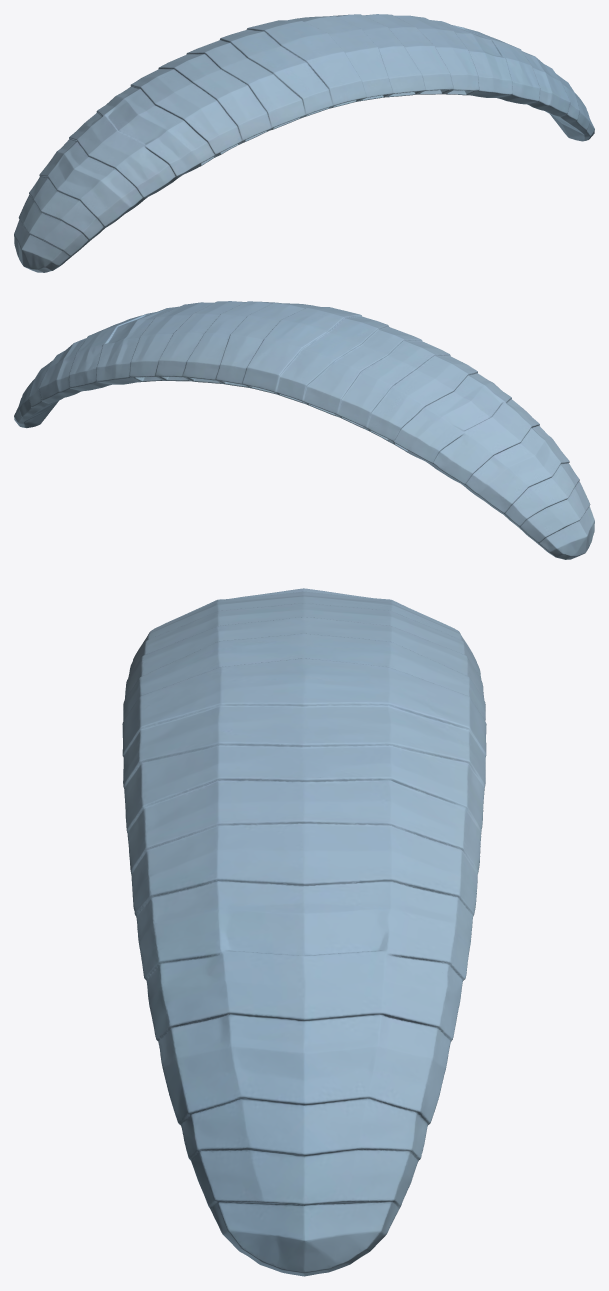
The model's file is wing.glb.
3 views of the same model, one above another, from view 1: azimuth 30°, elevation 25°; view 2: azimuth 150°, elevation 25°; view 3: azimuth 270°, elevation 25° (orthographic). The views are drawn at different scales.
Visible parts, largest first — view 1: tripo_node_2bcbf293-27b8-41a5-9096-9848414fc3c4; view 2: tripo_node_2bcbf293-27b8-41a5-9096-9848414fc3c4; view 3: tripo_node_2bcbf293-27b8-41a5-9096-9848414fc3c4.
Part boxes in pixels (left/top/right/bottom): tripo_node_2bcbf293-27b8-41a5-9096-9848414fc3c4: left=14, top=14, right=594, bottom=272; tripo_node_2bcbf293-27b8-41a5-9096-9848414fc3c4: left=14, top=301, right=594, bottom=559; tripo_node_2bcbf293-27b8-41a5-9096-9848414fc3c4: left=122, top=588, right=486, bottom=1276.
Bounding box in the file's own units: 1 × 0.2809 × 0.2785.
1 material, 1 textured.
